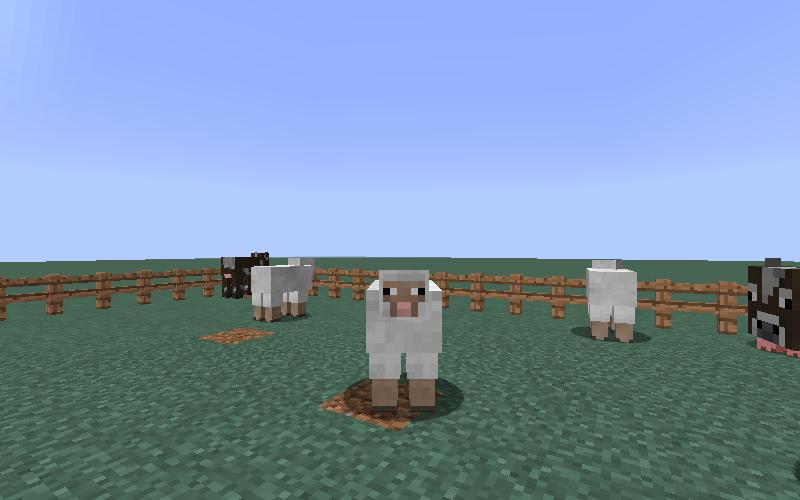cow: (748, 259, 800, 351), (221, 253, 271, 298)
sheep: (360, 266, 446, 416), (580, 258, 641, 344), (248, 256, 315, 324)
